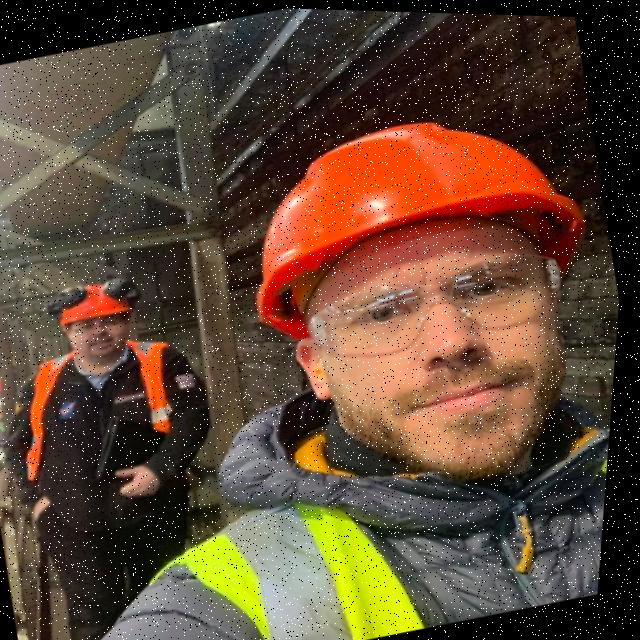illegal_helmet: (196, 68, 636, 533), (36, 258, 170, 378)
